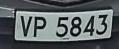3: (96, 13, 109, 38)
4: (83, 13, 96, 39)
5: (54, 15, 70, 39)
8: (69, 15, 83, 39)
P: (32, 14, 48, 40)
V: (19, 15, 34, 40)
